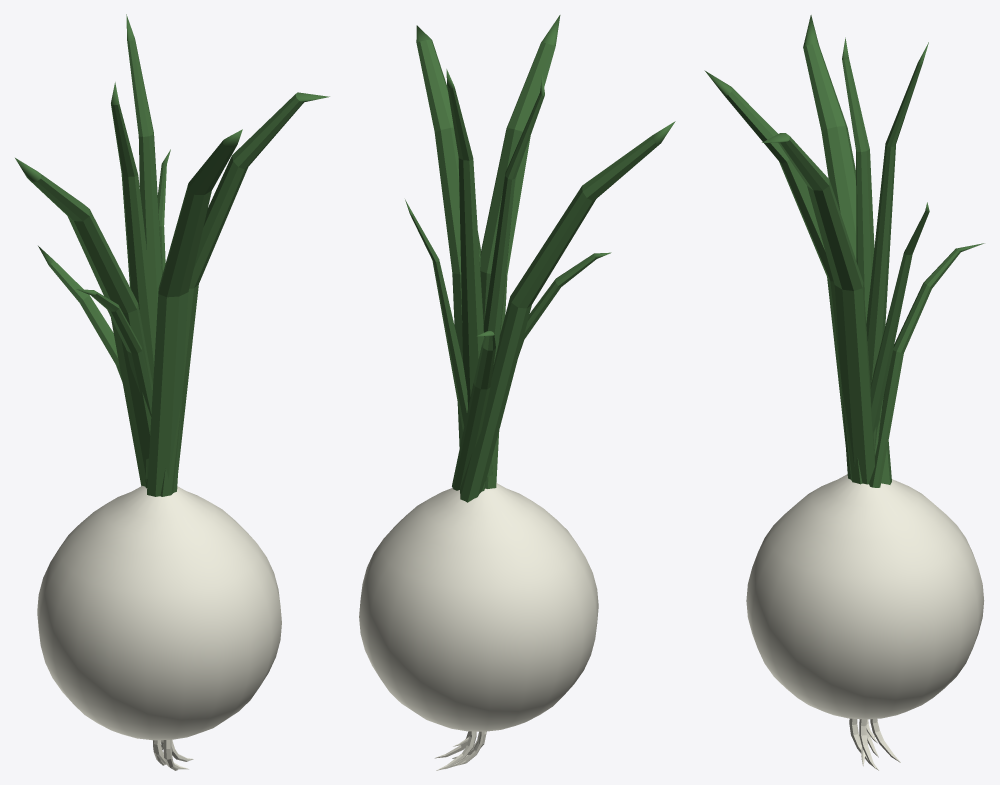
The model's file is Onion.fbx.
The picture shows the model from 3 angles, left to right: view 1: azimuth 30°, elevation 25°; view 2: azimuth 150°, elevation 25°; view 3: azimuth 270°, elevation 25°; orthographic projection. The views are drawn at different scales.
Parts seen in each view (by area): view 1: Bulb, LeafA1, LeafA2, LeafA3, LeafB3, LeafB2, LeafA4, LeafA5, LeafB4; view 2: Bulb, LeafA2, LeafA1, LeafA3, LeafB2, LeafB3, LeafA5, LeafB4, LeafA4; view 3: Bulb, LeafA3, LeafA2, LeafB2, LeafA1, LeafB3, LeafA5, LeafB4.
Part boxes in pixels (box(x1,y1,x2,y2)): Bulb: box(37, 486, 281, 740); LeafA1: box(147, 129, 242, 496); LeafA2: box(15, 158, 152, 486); LeafA3: box(160, 92, 329, 496); LeafB3: box(111, 82, 155, 488); LeafB2: box(126, 14, 162, 478); LeafA4: box(76, 289, 152, 416); LeafA5: box(38, 246, 122, 382); LeafB4: box(157, 149, 170, 274); Bulb: box(359, 483, 598, 731); LeafA2: box(460, 121, 675, 502); LeafA1: box(480, 15, 560, 488); LeafA3: box(416, 25, 480, 447); LeafB2: box(446, 69, 492, 476); LeafB3: box(481, 73, 544, 491); LeafA5: box(452, 331, 495, 490); LeafB4: box(405, 199, 467, 431); LeafA4: box(518, 252, 611, 355); Bulb: box(746, 474, 984, 719); LeafA3: box(762, 133, 874, 484); LeafA2: box(803, 15, 891, 484); LeafB2: box(866, 42, 928, 450); LeafA1: box(704, 70, 862, 484); LeafB3: box(842, 37, 881, 455); LeafA5: box(869, 243, 984, 487); LeafB4: box(870, 202, 929, 433).
Size of the model in its own units: 2.72 by 6.65 by 2.37.
